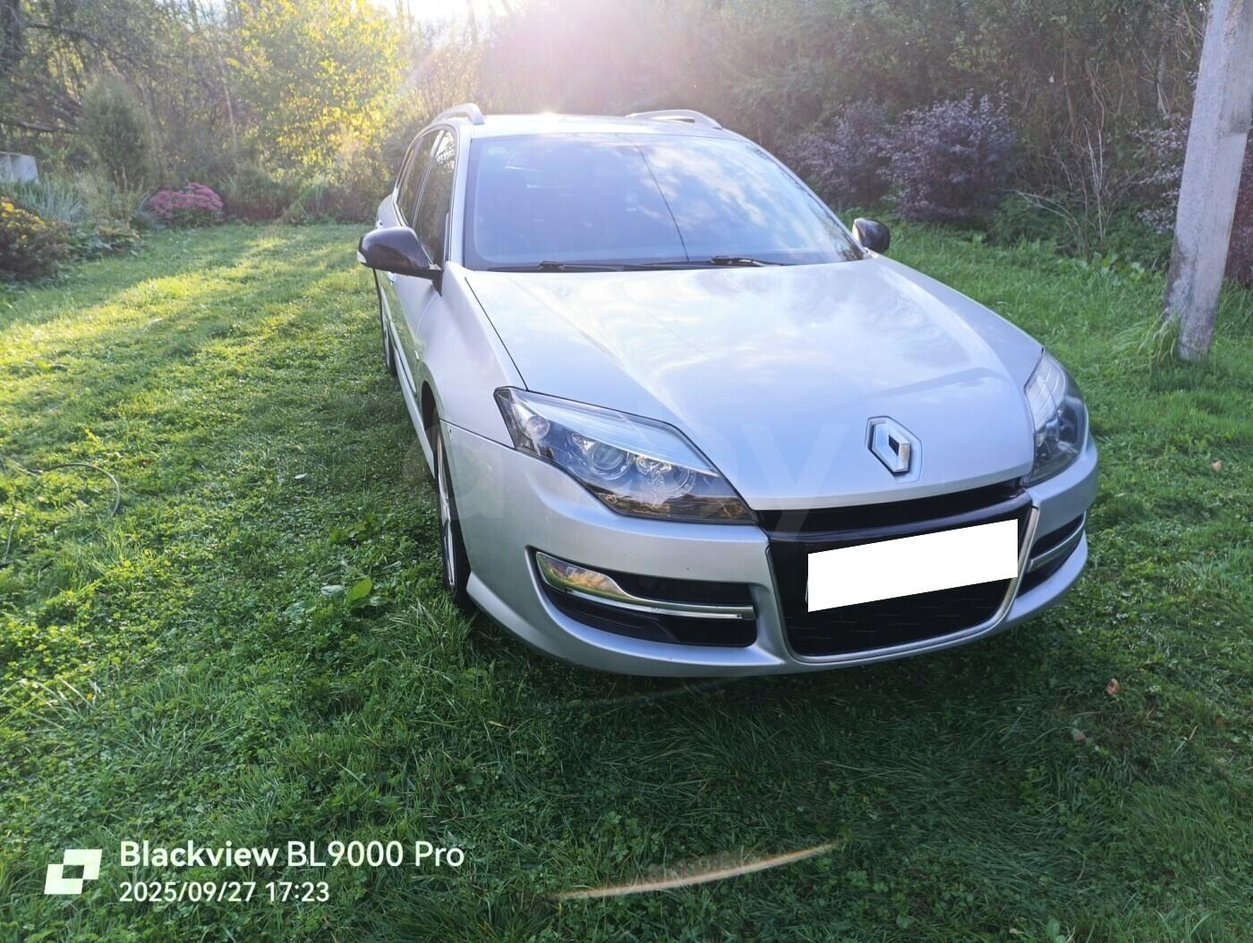Laguna_2010-2015: (353, 95, 1109, 695)
